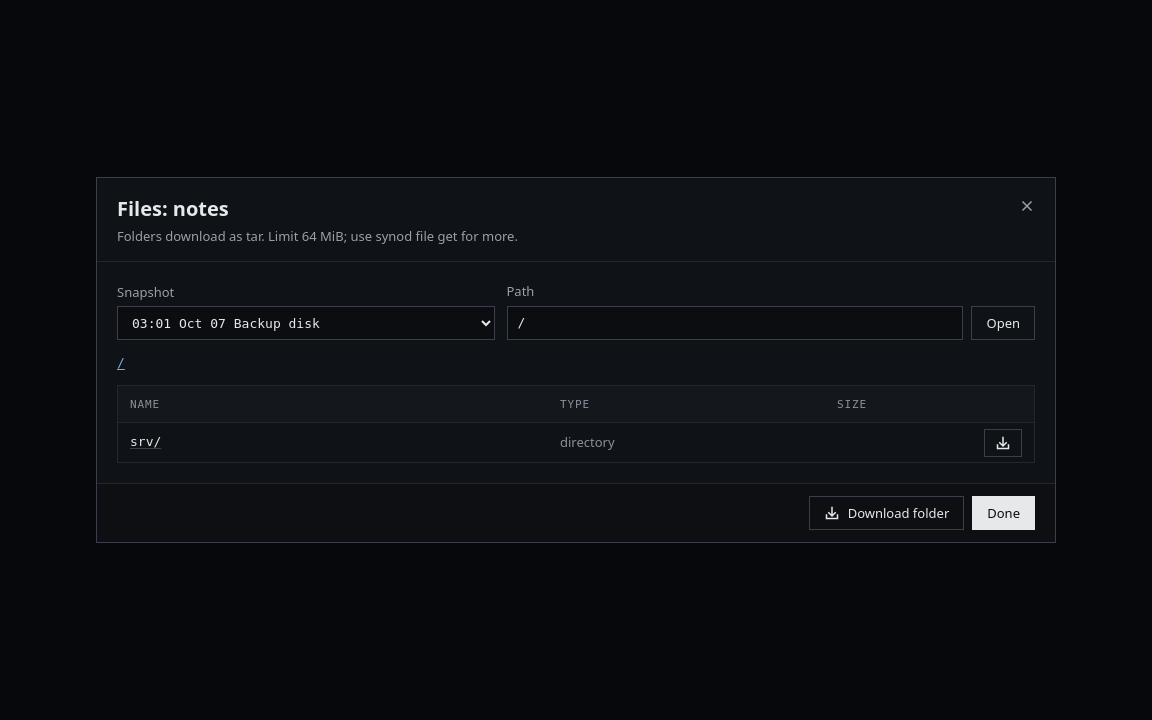
opens a folder of the chosen copy
What coordinates should you click on to do the following:
click the button "srv/"
I would click on:
 (146, 442)
Its box is [130,435,161,448].
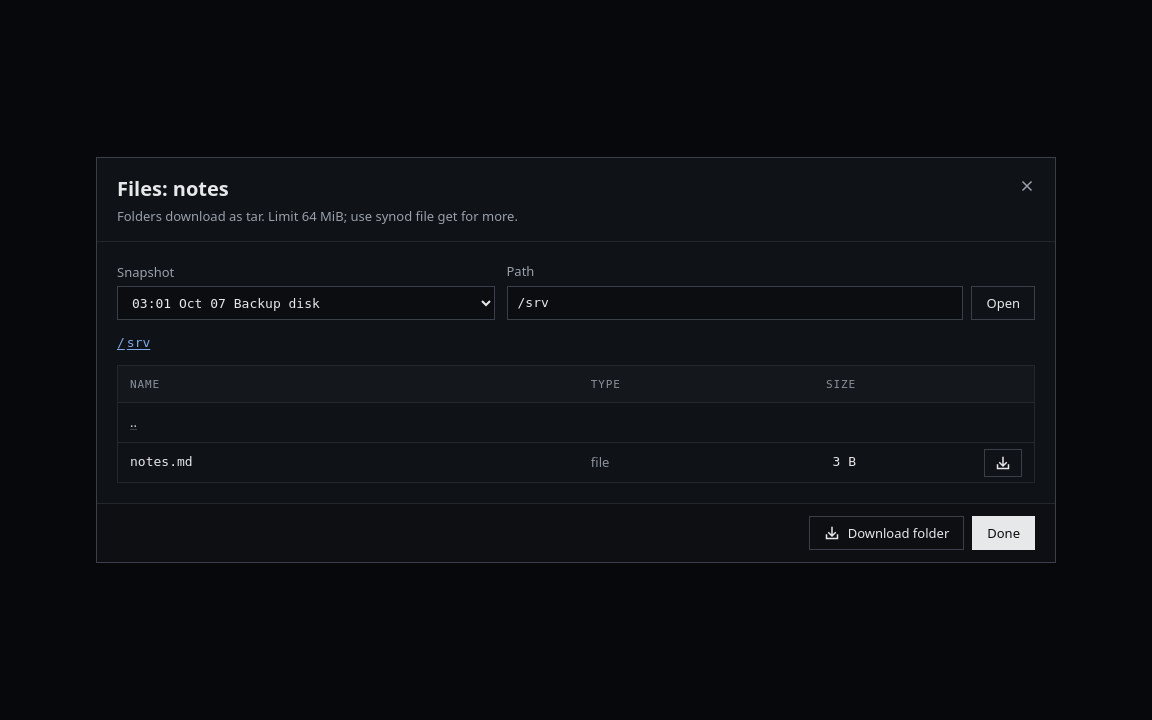
Now the text "notes.md" is shown, box [118,442,579,482]
Now the button named "Download notes.md" is shown, box [984,449,1022,477]
